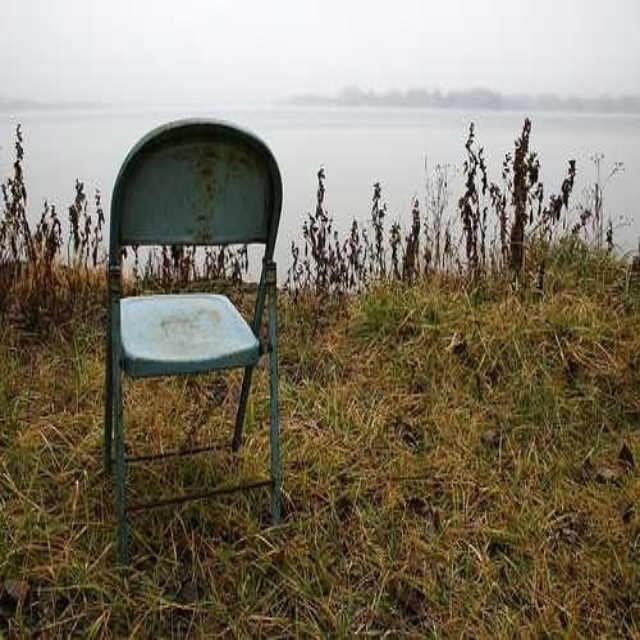obstacle: (102, 120, 282, 557)
